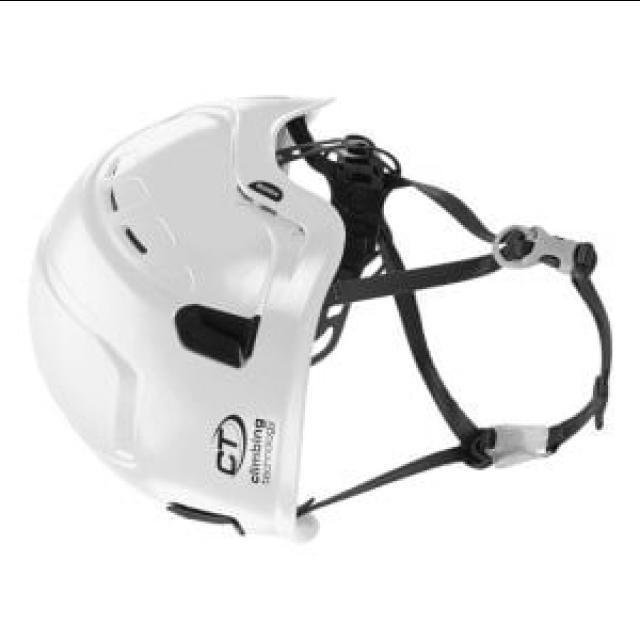safety_helmet: (28, 94, 614, 544)
